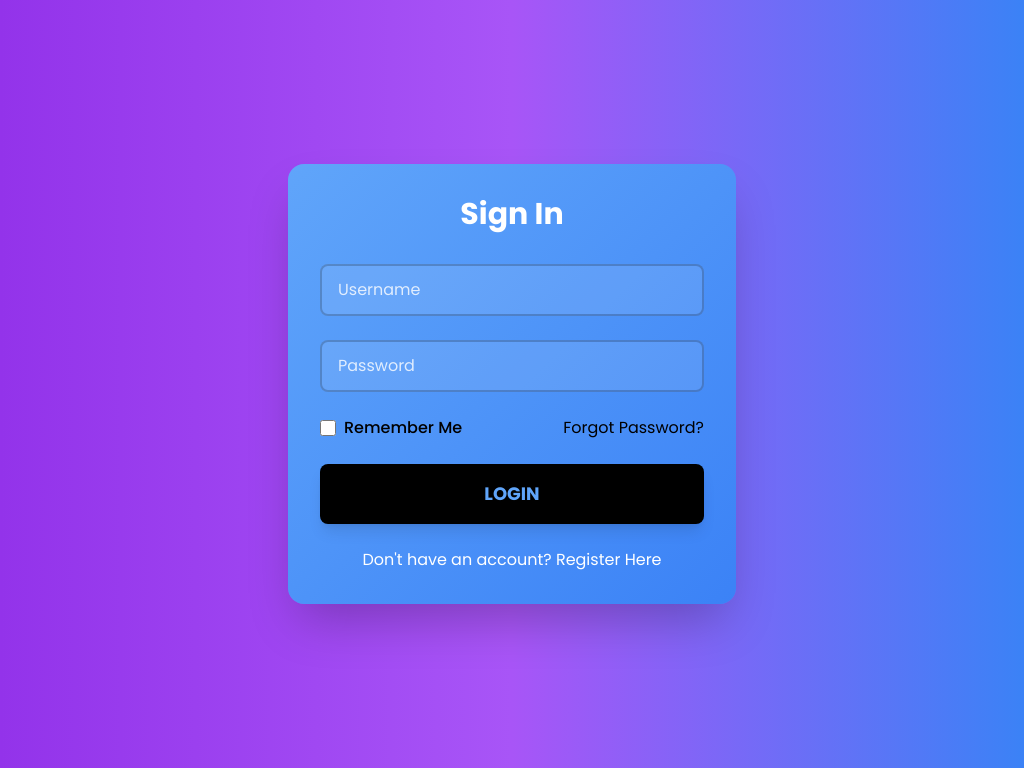
Test: SignInForm › shows error message on invalid login credentials
Expected: the heading "Sign In" is shown, [460,193,564,235]
Expected: the password field with placeholder "Password" is shown, [320,340,704,392]
In the field with placeholder "Username": coordinates (512, 290) [320,264,704,316], type "wronguser"
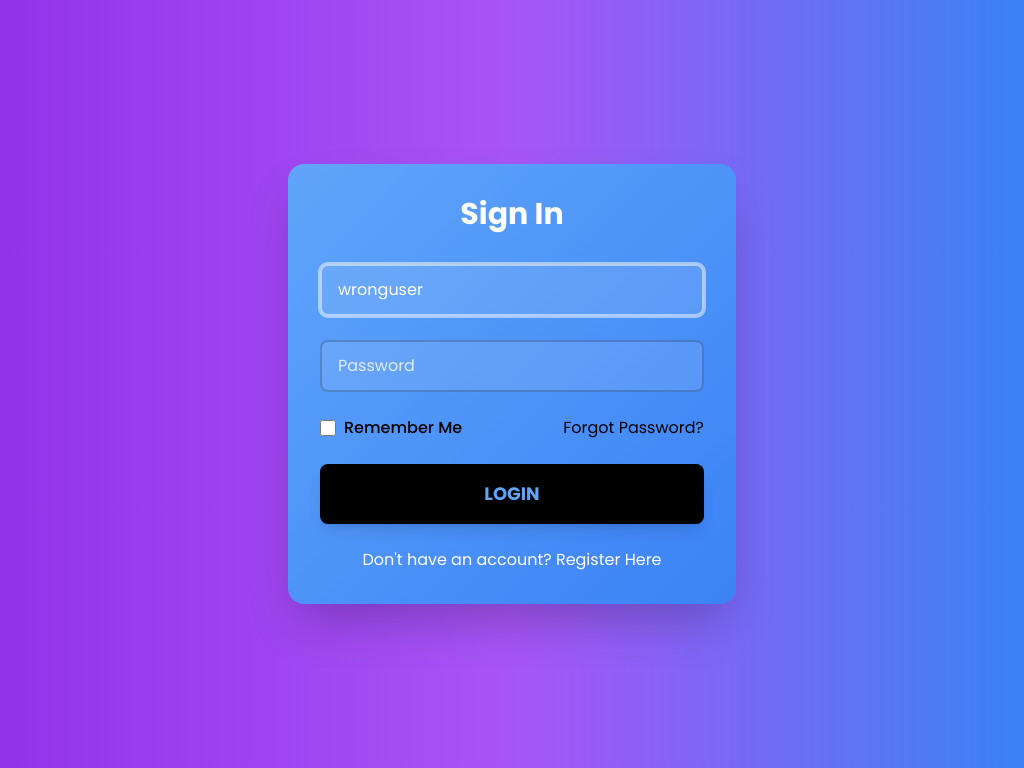
In the password field with placeholder "Password": coordinates (512, 366) [320,340,704,392], type "wrongpassword"
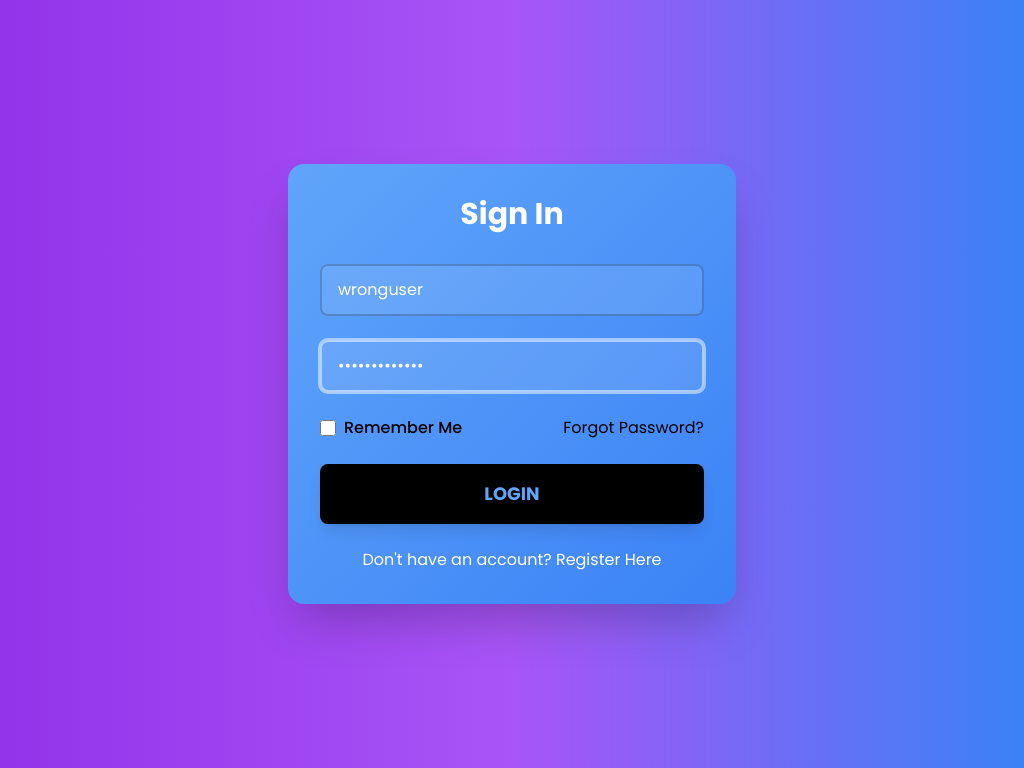
Click the button "LOGIN": coordinates (512, 494) [320,464,704,524]
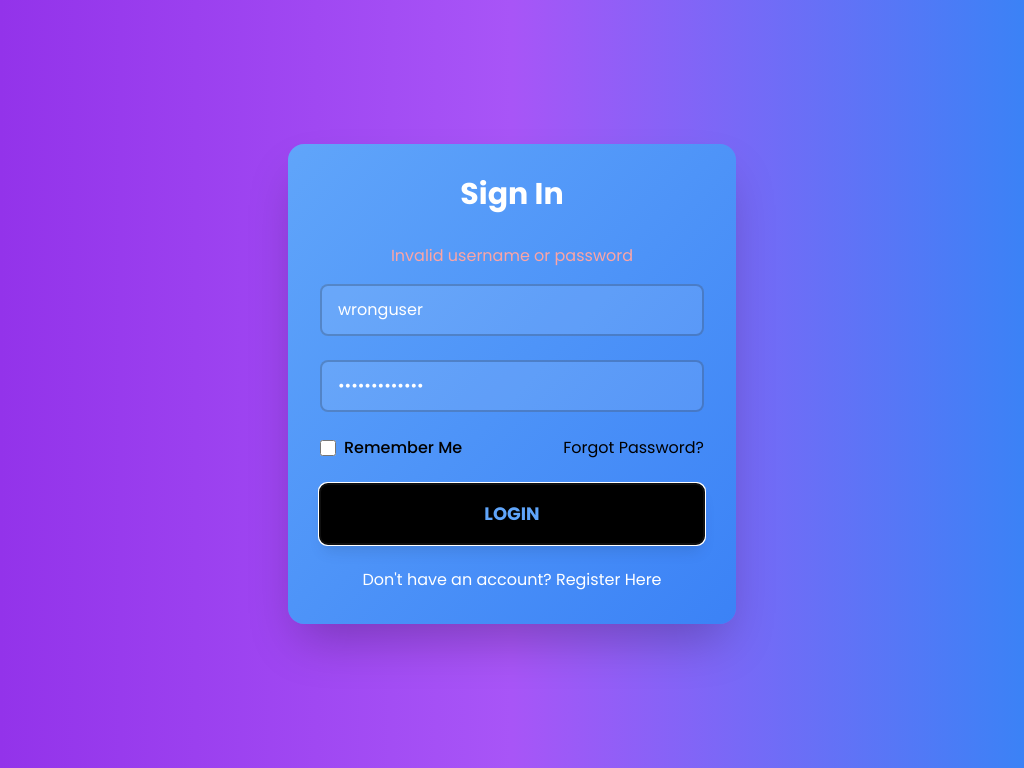
Expected: the text "Invalid username or password" is shown, [391,244,633,267]
